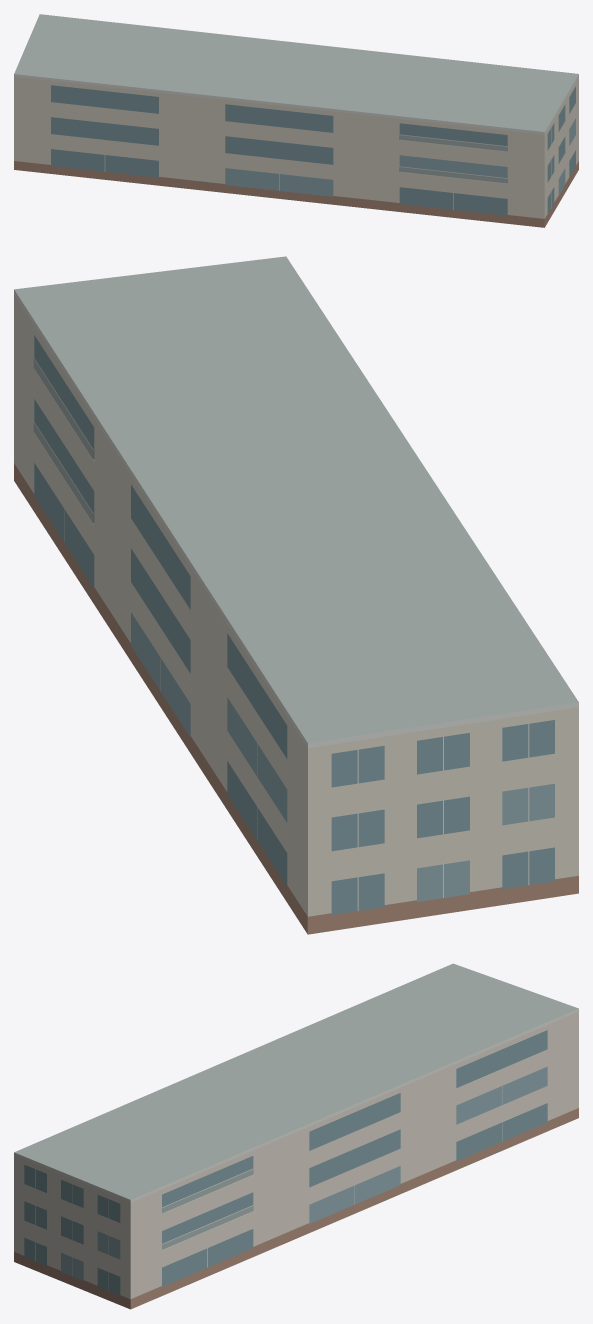
File: survey-upis-32618816.glb
3 views of the same model, one above another, from view 1: azimuth 30°, elevation 25°; view 2: azimuth 150°, elevation 25°; view 3: azimuth 270°, elevation 25° (orthographic). The views are drawn at different scales.
Parts seen in each view (by area): view 1: survey-upis-32618816.tmp; view 2: survey-upis-32618816.tmp; view 3: survey-upis-32618816.tmp.
Boxes of the visible parts, <box> form: survey-upis-32618816.tmp: <box>14,14,578,227</box>; survey-upis-32618816.tmp: <box>14,256,578,934</box>; survey-upis-32618816.tmp: <box>14,963,578,1309</box>.
Bounding box in the file's own units: 42.36 × 9.15 × 42.77.
